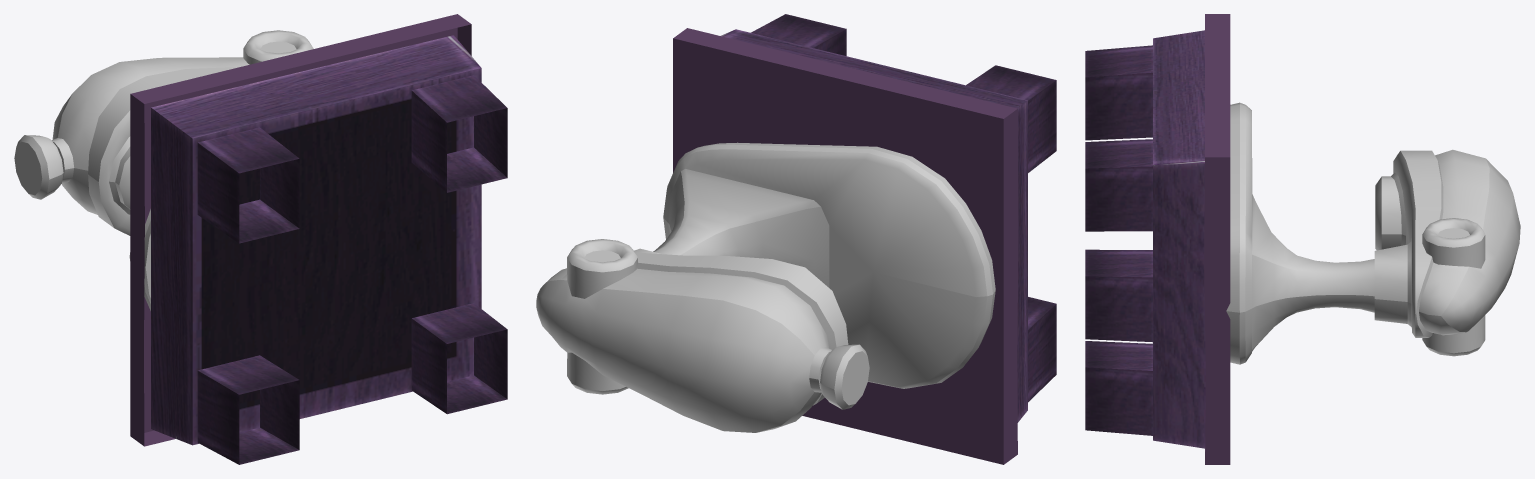
File: CounterMixer2.fbx
3 renders of one model, left to right at view 1: azimuth 30°, elevation 25°; view 2: azimuth 150°, elevation 25°; view 3: azimuth 270°, elevation 25°, orthographic. The views are drawn at different scales.
Parts seen in each view (by area): view 1: Magic_CounterTopA, m_cakemixer_01_Body; view 2: m_cakemixer_01_Body, Magic_CounterTopA; view 3: Magic_CounterTopA, m_cakemixer_01_Body.
Boxes of the visible parts, bbox=[...] form: Magic_CounterTopA: bbox=[130, 14, 507, 464]; m_cakemixer_01_Body: bbox=[14, 30, 313, 310]; m_cakemixer_01_Body: bbox=[536, 142, 995, 432]; Magic_CounterTopA: bbox=[673, 14, 1056, 464]; Magic_CounterTopA: bbox=[1085, 14, 1230, 464]; m_cakemixer_01_Body: bbox=[1226, 102, 1520, 364].
Size of the model in its own units: 1.24 by 1.54 by 1.2.
